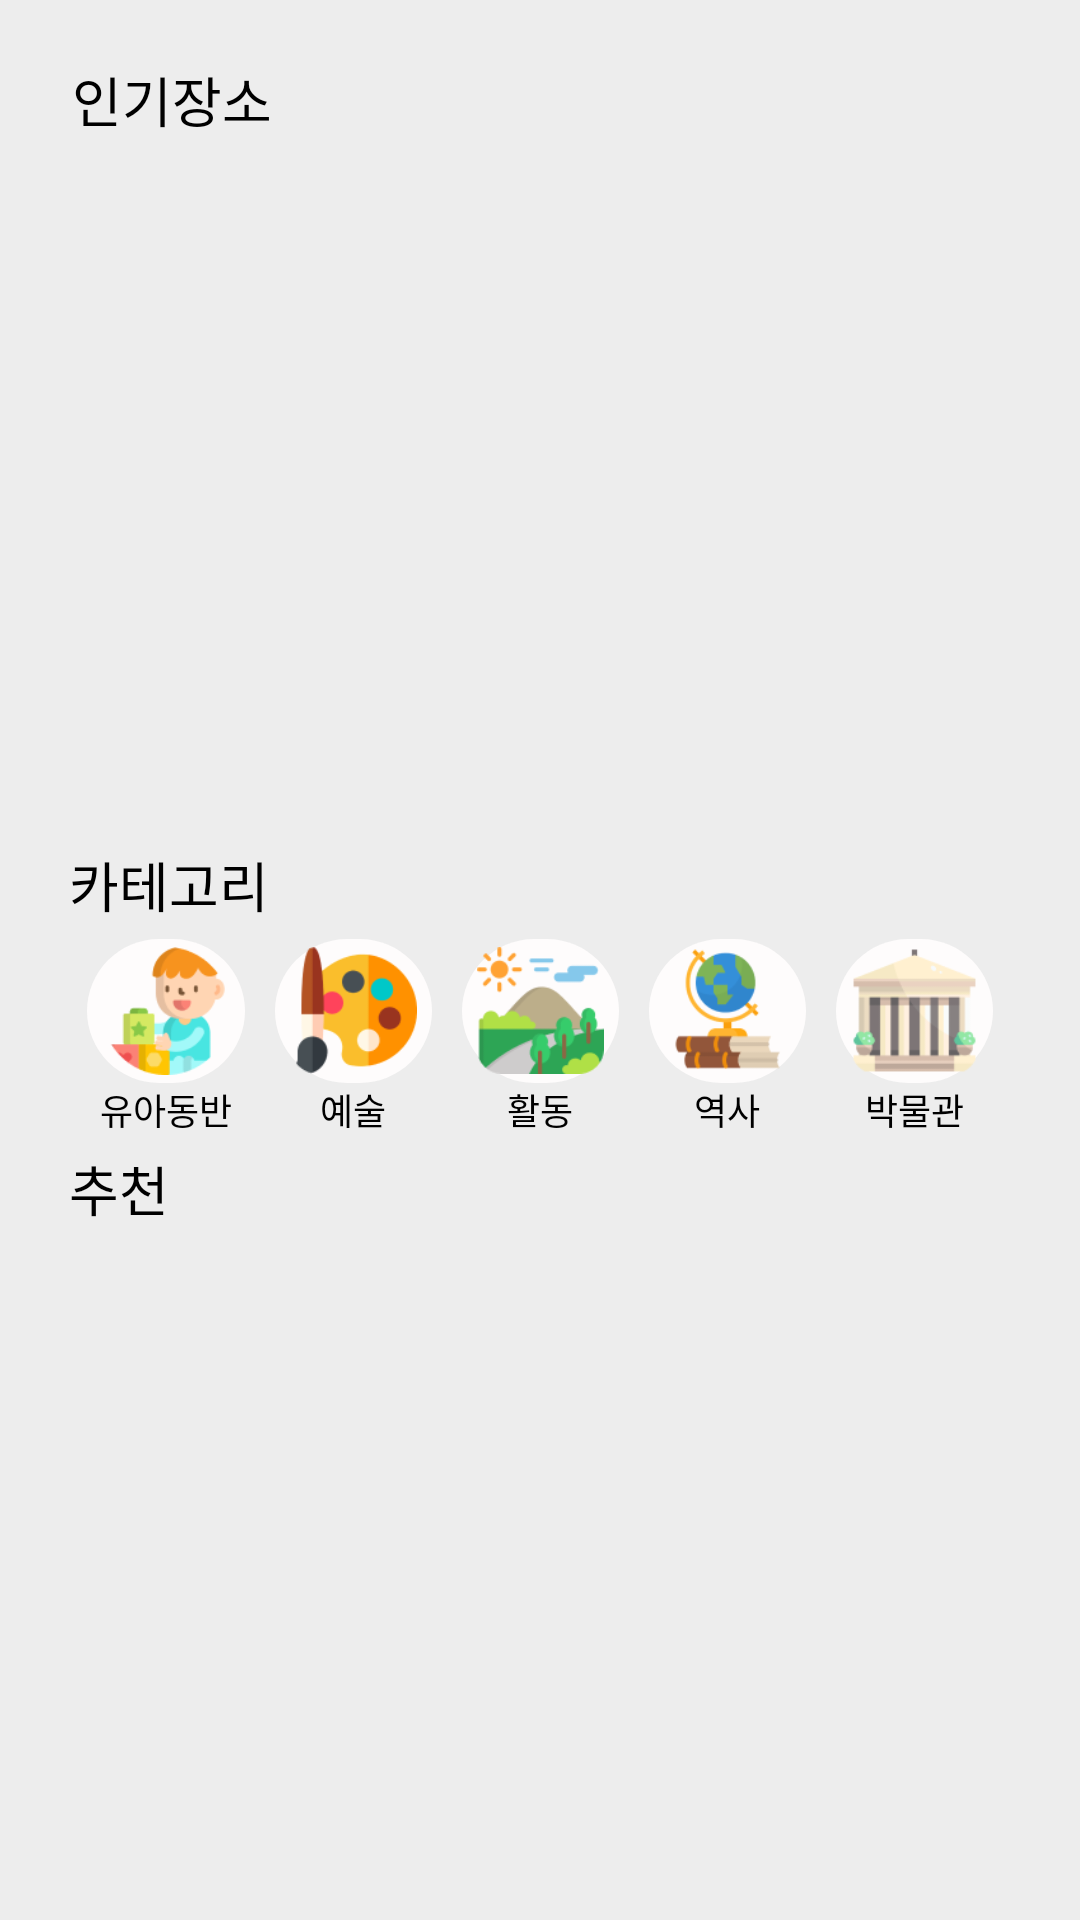

Icons on this 1080w x 1920h Android screen, each with its box as detection(x1, y1, x2, y2):
childplay: detection(112, 947, 225, 1075)
